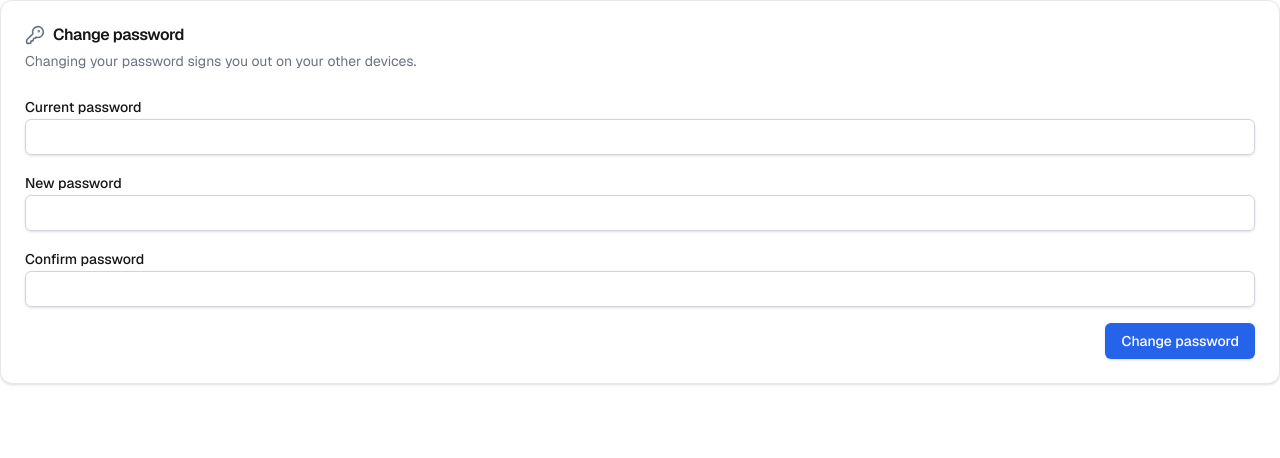
Test: ChangePasswordCard › refuses a confirmation that does not match, or a short password
Type "old-password" into the password field labelled "Current password".
click(640, 137); type("old-password")  # box [25, 119, 1255, 155]
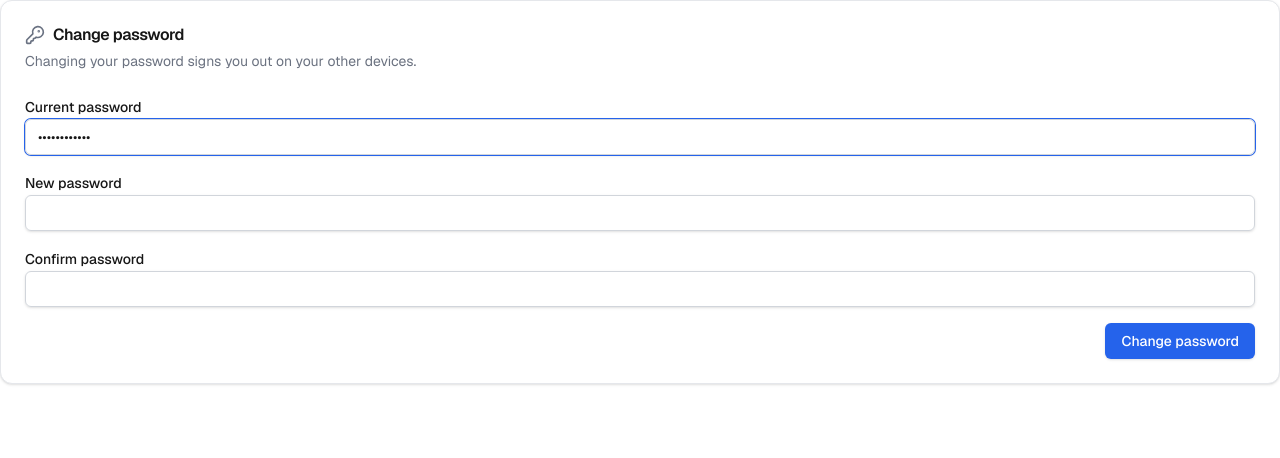
Type "short" into the password field labelled "New password".
click(640, 213); type("short")  # box [25, 195, 1255, 231]
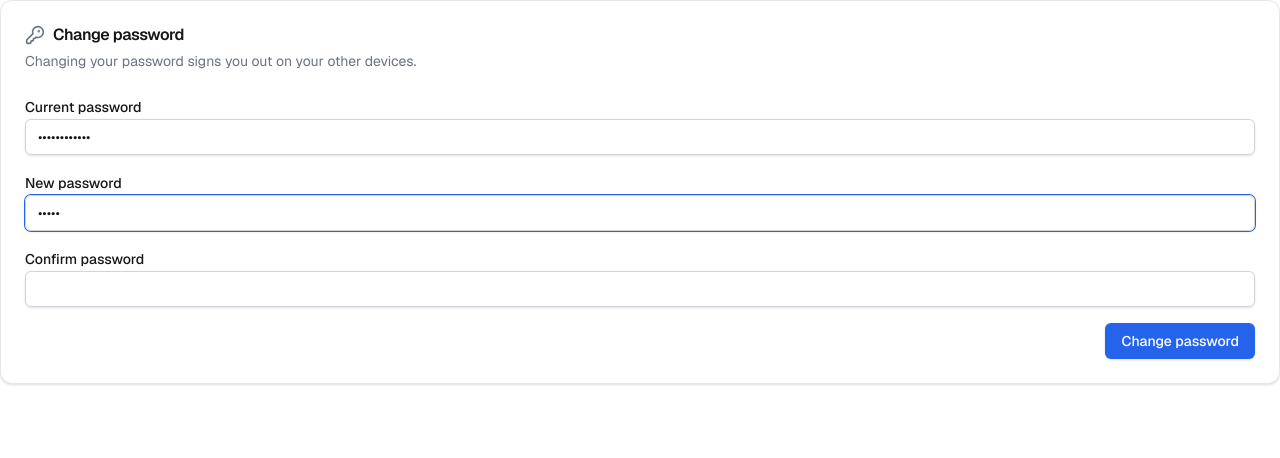
Type "other" into the password field labelled "Confirm password".
click(640, 289); type("other")  # box [25, 271, 1255, 307]
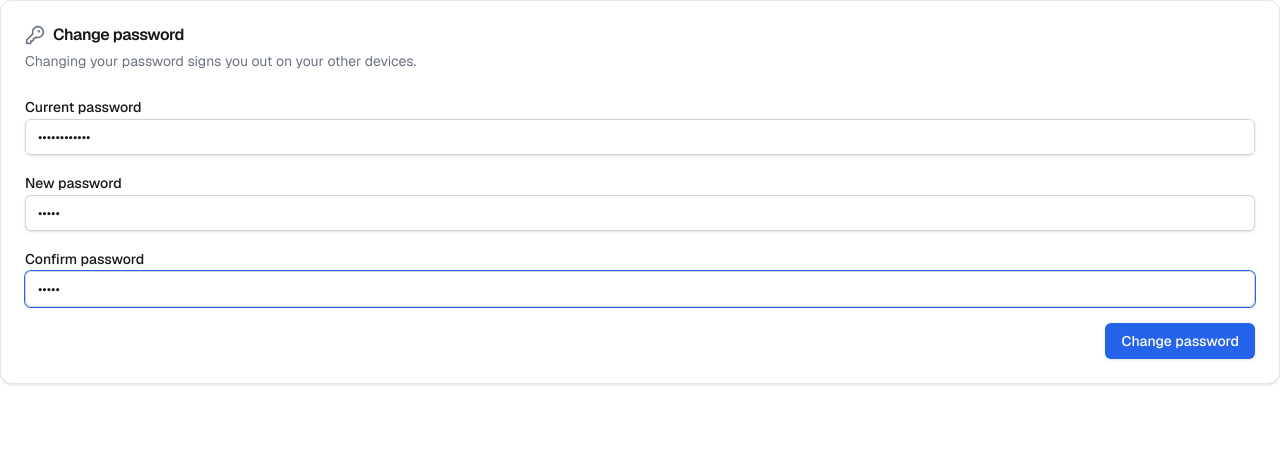
Click the button "Change password".
click(1180, 341)  # box [1106, 323, 1255, 359]
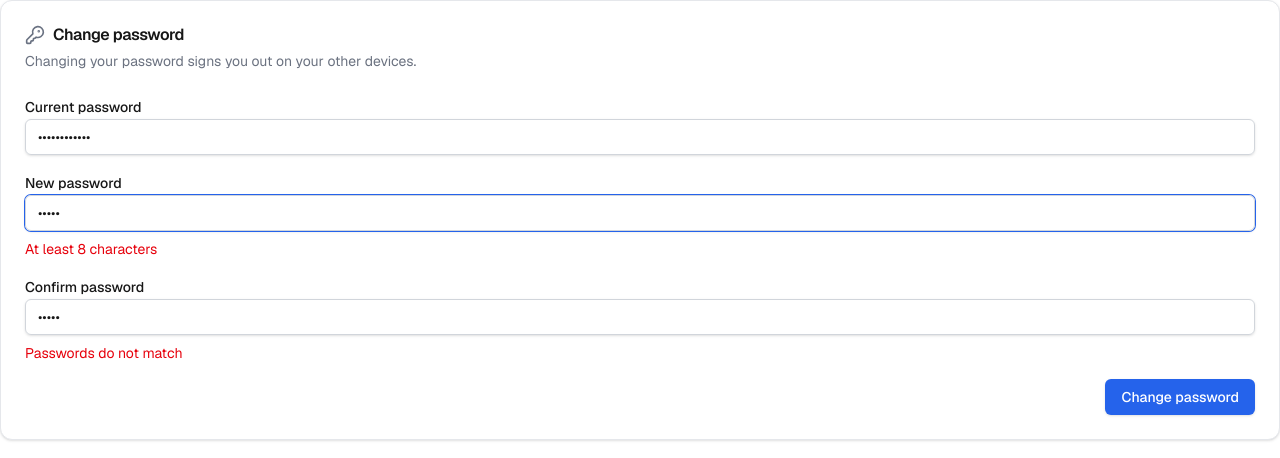
Expected: the text "At least 8 characters" is shown, [25, 240, 157, 258]
Expected: the text "Passwords do not match" is shown, [25, 344, 182, 362]
